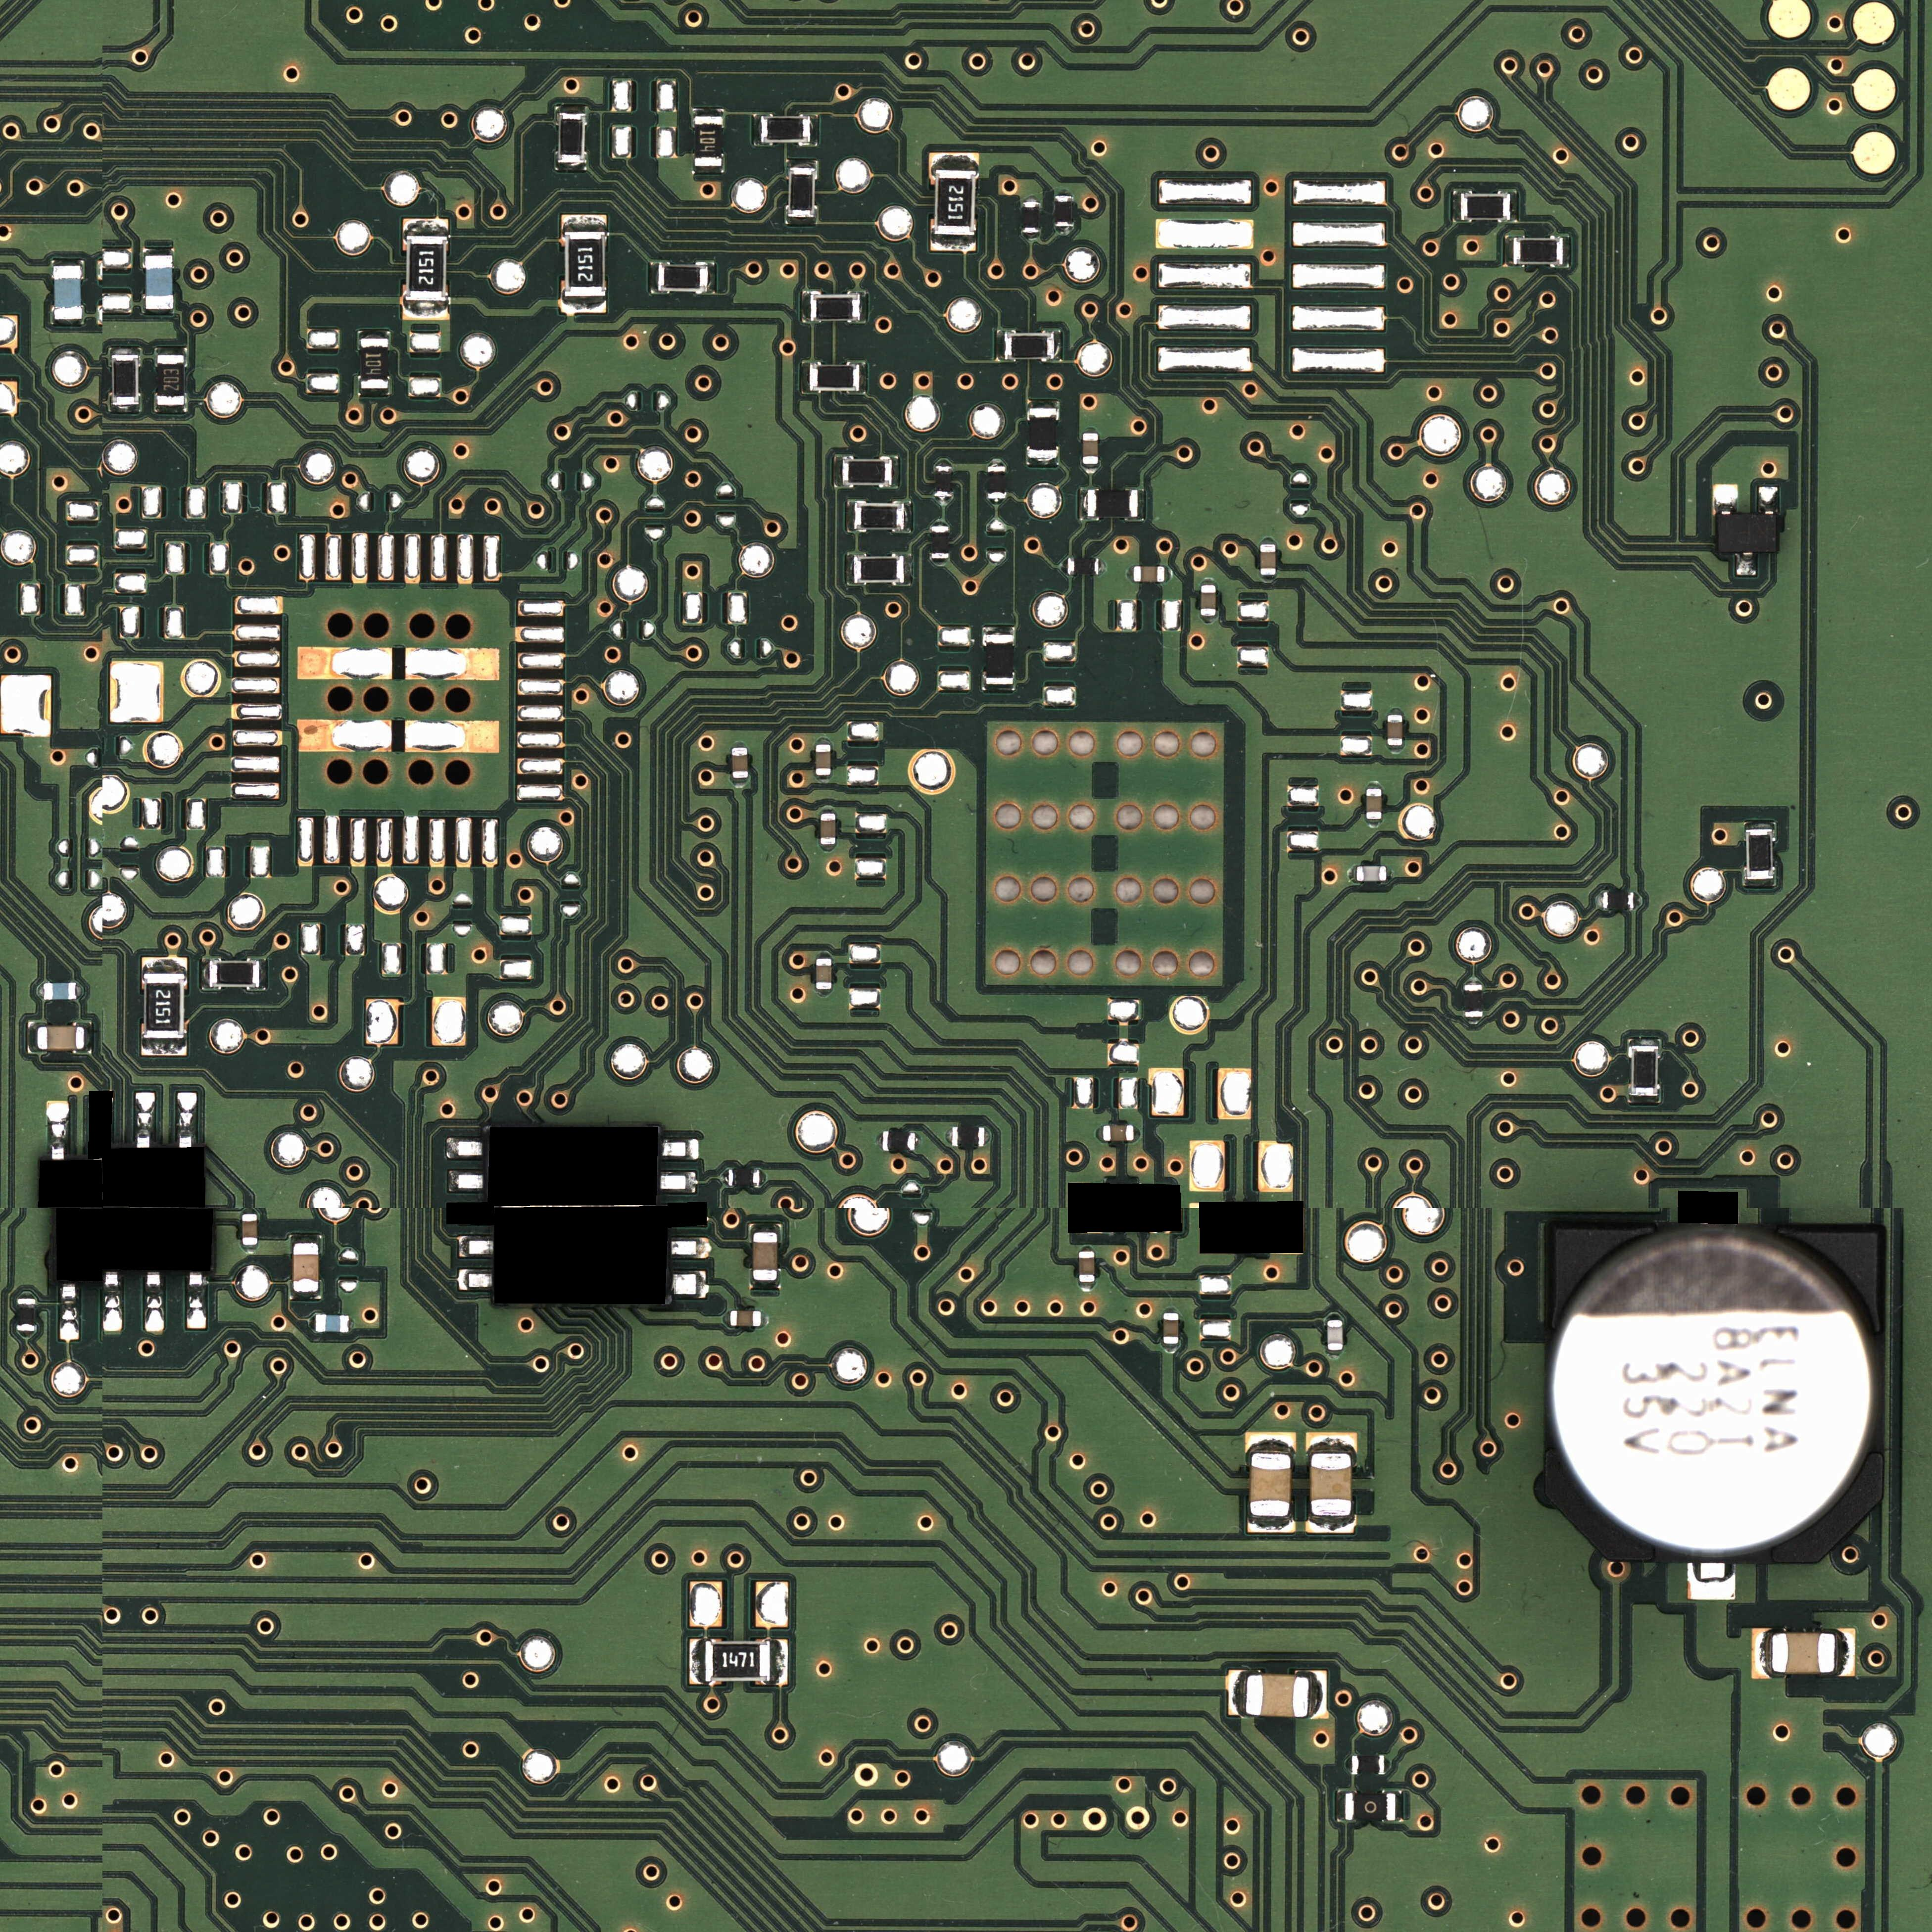Package: (1548, 1222, 1884, 1560), (406, 236, 446, 300), (144, 974, 184, 1038), (934, 170, 975, 235), (1246, 1675, 1309, 1716), (565, 232, 605, 296), (705, 1641, 770, 1681), (1310, 1453, 1352, 1516), (1250, 1454, 1291, 1516), (1772, 1633, 1835, 1673), (1717, 515, 1777, 552), (145, 255, 173, 309), (53, 266, 81, 319), (1345, 1793, 1396, 1821), (1087, 490, 1138, 518), (1029, 408, 1057, 458), (985, 634, 1014, 684), (361, 338, 388, 388), (695, 116, 722, 166), (157, 355, 185, 405), (842, 459, 892, 485), (209, 961, 259, 987), (658, 265, 708, 291), (1005, 333, 1054, 359), (854, 557, 904, 582), (1747, 829, 1772, 879), (855, 504, 904, 530), (1461, 194, 1510, 220), (810, 365, 859, 390), (112, 355, 138, 405), (1513, 239, 1563, 264), (1632, 1046, 1657, 1096), (293, 1243, 319, 1292), (761, 117, 810, 143), (811, 295, 860, 320), (559, 113, 584, 162), (789, 168, 814, 217), (753, 1232, 777, 1280), (37, 1026, 84, 1050), (17, 1298, 36, 1331), (1351, 1755, 1385, 1774), (952, 1127, 984, 1147), (1464, 984, 1483, 1017), (315, 1314, 349, 1333), (883, 1132, 915, 1151), (987, 466, 1006, 498), (931, 526, 949, 559), (728, 1168, 760, 1187), (44, 983, 76, 1000), (1603, 892, 1634, 910), (1055, 195, 1072, 227), (1067, 558, 1099, 575), (935, 466, 952, 496), (1022, 202, 1039, 233), (730, 1310, 761, 1327), (1133, 566, 1164, 582), (1260, 544, 1276, 575), (1103, 1125, 1134, 1141), (816, 958, 832, 989), (242, 1214, 258, 1245), (1387, 715, 1403, 746), (1079, 1251, 1095, 1282), (816, 745, 831, 775), (1163, 1313, 1179, 1344), (1083, 433, 1098, 464), (732, 748, 748, 778), (1366, 789, 1382, 819), (1327, 1320, 1343, 1350), (821, 814, 836, 844), (1201, 585, 1216, 616), (1356, 866, 1387, 881)
Solder: (1688, 1562, 1735, 1600), (102, 1272, 123, 1331), (48, 1101, 69, 1159), (144, 1272, 164, 1332), (176, 1093, 198, 1147), (135, 1092, 155, 1148), (187, 1272, 206, 1328), (1245, 1432, 1296, 1453), (1306, 1432, 1357, 1452), (1752, 1628, 1771, 1679), (60, 1283, 78, 1340), (402, 301, 450, 321), (1836, 1628, 1854, 1677), (1309, 1670, 1327, 1719), (929, 152, 979, 170), (1227, 1670, 1246, 1716), (674, 1272, 706, 1298), (671, 1236, 709, 1258), (1306, 1516, 1355, 1533), (141, 1038, 187, 1056), (448, 1169, 483, 1193), (1247, 1516, 1295, 1533), (771, 1639, 788, 1686), (561, 297, 607, 314), (1713, 484, 1738, 515), (403, 219, 449, 236), (661, 1172, 697, 1193), (142, 957, 188, 973), (561, 215, 607, 231), (930, 236, 976, 251), (447, 1137, 481, 1159), (663, 1139, 698, 1159), (689, 1639, 705, 1685), (460, 1269, 493, 1290), (459, 1238, 493, 1257), (1758, 486, 1778, 515), (1736, 552, 1757, 577), (1743, 820, 1776, 829), (1744, 879, 1776, 888), (833, 456, 842, 487), (649, 262, 658, 293), (750, 1223, 780, 1232), (995, 330, 1004, 361), (984, 626, 1014, 634), (1629, 1037, 1659, 1046), (291, 1234, 321, 1243), (201, 959, 210, 989), (1504, 236, 1513, 266), (753, 114, 761, 145), (1028, 400, 1059, 408), (28, 1023, 37, 1051), (810, 115, 819, 145), (556, 105, 586, 113), (846, 554, 854, 584), (1027, 458, 1059, 466), (359, 330, 389, 338), (801, 362, 810, 392), (802, 291, 810, 322), (1054, 330, 1062, 360), (1452, 191, 1461, 221), (891, 456, 899, 487), (788, 159, 817, 168), (860, 292, 868, 322), (750, 1280, 779, 1289), (904, 554, 912, 585), (1510, 191, 1518, 222), (1629, 1096, 1659, 1104), (110, 346, 139, 355), (155, 405, 186, 413), (556, 163, 586, 171), (156, 347, 186, 355), (144, 247, 174, 255), (708, 263, 716, 292), (847, 500, 854, 531), (1080, 488, 1087, 520), (787, 217, 816, 225), (859, 362, 867, 393), (983, 684, 1014, 692), (1337, 1791, 1344, 1821), (1396, 1791, 1403, 1821), (1563, 236, 1570, 266), (110, 405, 140, 412), (693, 166, 723, 173), (904, 502, 912, 531), (52, 258, 82, 266), (359, 388, 388, 395), (694, 109, 723, 116), (84, 1024, 92, 1051), (291, 1292, 320, 1299), (52, 320, 83, 327), (1138, 489, 1145, 519), (259, 960, 266, 989), (144, 309, 173, 316), (1079, 1282, 1095, 1291), (1465, 1017, 1482, 1025), (875, 1131, 882, 1151), (761, 1310, 769, 1327), (1054, 226, 1073, 233), (816, 989, 832, 997), (1082, 464, 1099, 472), (1201, 616, 1216, 624), (76, 983, 84, 999), (820, 845, 836, 853), (816, 951, 831, 959), (1126, 566, 1134, 581), (1366, 819, 1382, 827), (1133, 1125, 1141, 1141), (308, 1315, 316, 1332), (1055, 189, 1072, 196), (17, 1331, 35, 1338), (988, 460, 1006, 467), (1464, 978, 1482, 985), (242, 1245, 257, 1253), (1164, 567, 1172, 582), (1099, 558, 1107, 575), (945, 1127, 952, 1145), (984, 1127, 991, 1146), (732, 778, 748, 786), (723, 1311, 730, 1327), (1388, 746, 1403, 753), (1096, 1125, 1103, 1141), (1162, 1344, 1178, 1352), (935, 497, 952, 504), (988, 498, 1006, 505), (37, 984, 44, 999), (821, 806, 836, 813), (1201, 578, 1216, 585), (1260, 537, 1276, 545), (1349, 867, 1356, 882), (760, 1170, 767, 1186), (1327, 1313, 1343, 1320), (915, 1133, 921, 1150), (1634, 892, 1641, 910), (815, 775, 831, 782), (1023, 195, 1039, 202), (1327, 1350, 1343, 1357), (1061, 558, 1067, 575), (816, 737, 831, 744), (1083, 427, 1098, 434), (1366, 782, 1382, 789), (17, 1293, 35, 1299), (1596, 893, 1603, 909), (931, 520, 949, 526), (1388, 708, 1402, 715), (1346, 1756, 1352, 1773), (1022, 233, 1039, 239), (930, 559, 949, 564), (936, 459, 951, 466), (1260, 575, 1276, 581), (1079, 1245, 1094, 1252), (1163, 1306, 1178, 1313), (732, 741, 747, 748), (1386, 866, 1393, 881), (349, 1316, 355, 1332), (722, 1169, 728, 1185), (1385, 1756, 1390, 1773), (242, 1208, 257, 1214)
